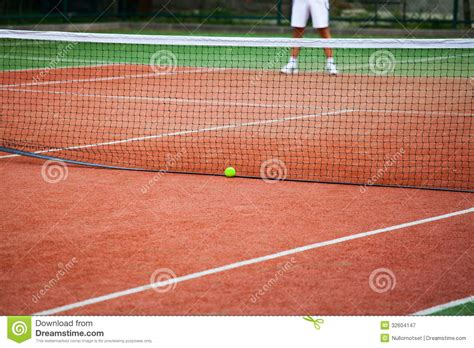tennis_ball: (224, 166, 235, 178)
